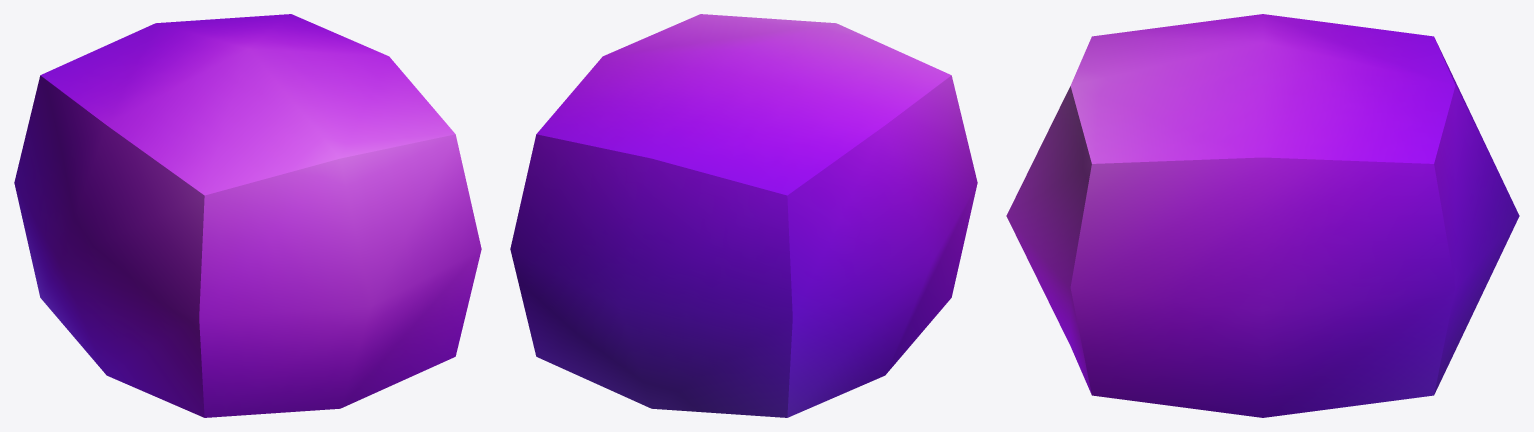
The model's file is space_particle.dae.
3 views of the same model, side by side, from view 1: azimuth 30°, elevation 25°; view 2: azimuth 150°, elevation 25°; view 3: azimuth 270°, elevation 25° (orthographic). The views are drawn at different scales.
Visible parts, largest first — view 1: Box001; view 2: Box001; view 3: Box001.
Part boxes in pixels (bbox=[...]): Box001: bbox=[14, 14, 481, 417]; Box001: bbox=[510, 14, 977, 417]; Box001: bbox=[1006, 14, 1519, 417].
Bounding box in the file's own units: 0.8366 × 0.7081 × 0.9483.
